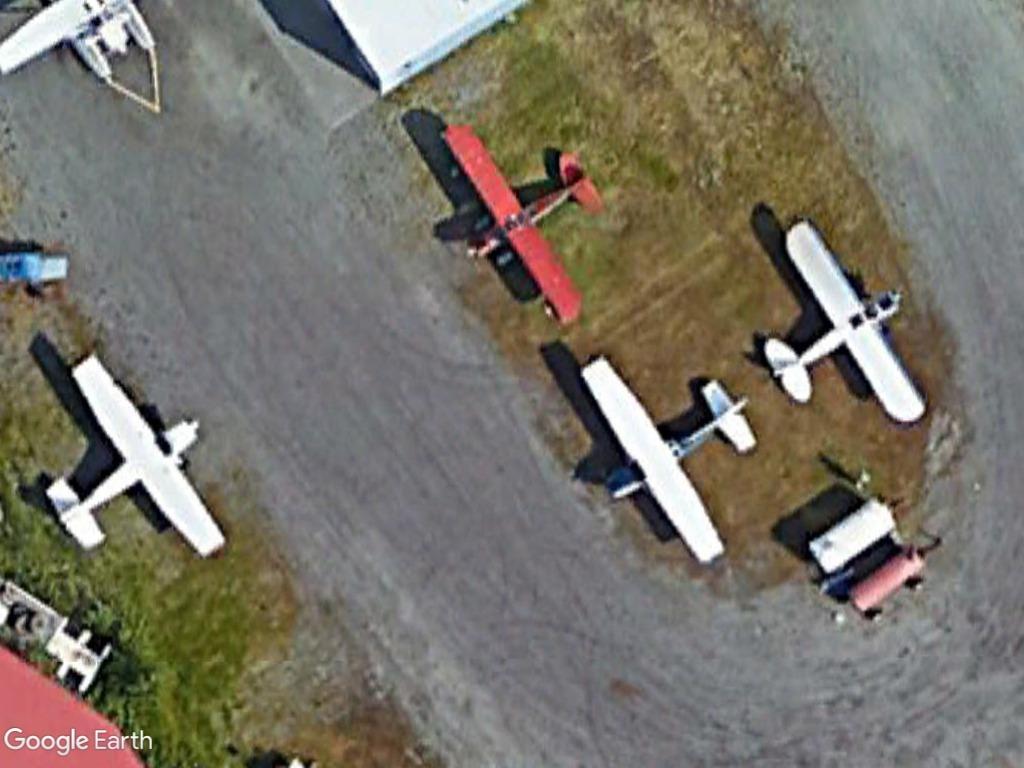trainer: (38, 347, 229, 566), (573, 353, 760, 573), (762, 212, 931, 425), (440, 119, 605, 333)
